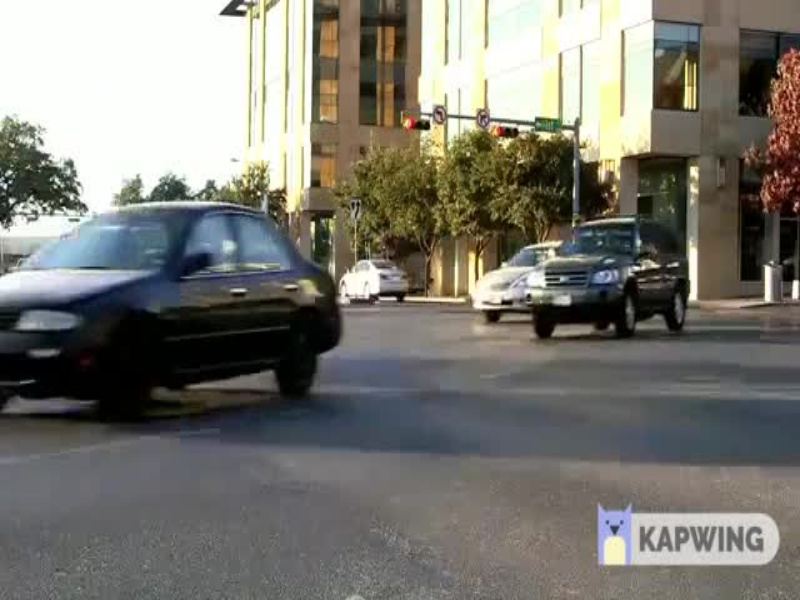car: (1, 203, 341, 417), (338, 247, 408, 306)
suv: (523, 217, 700, 350)
